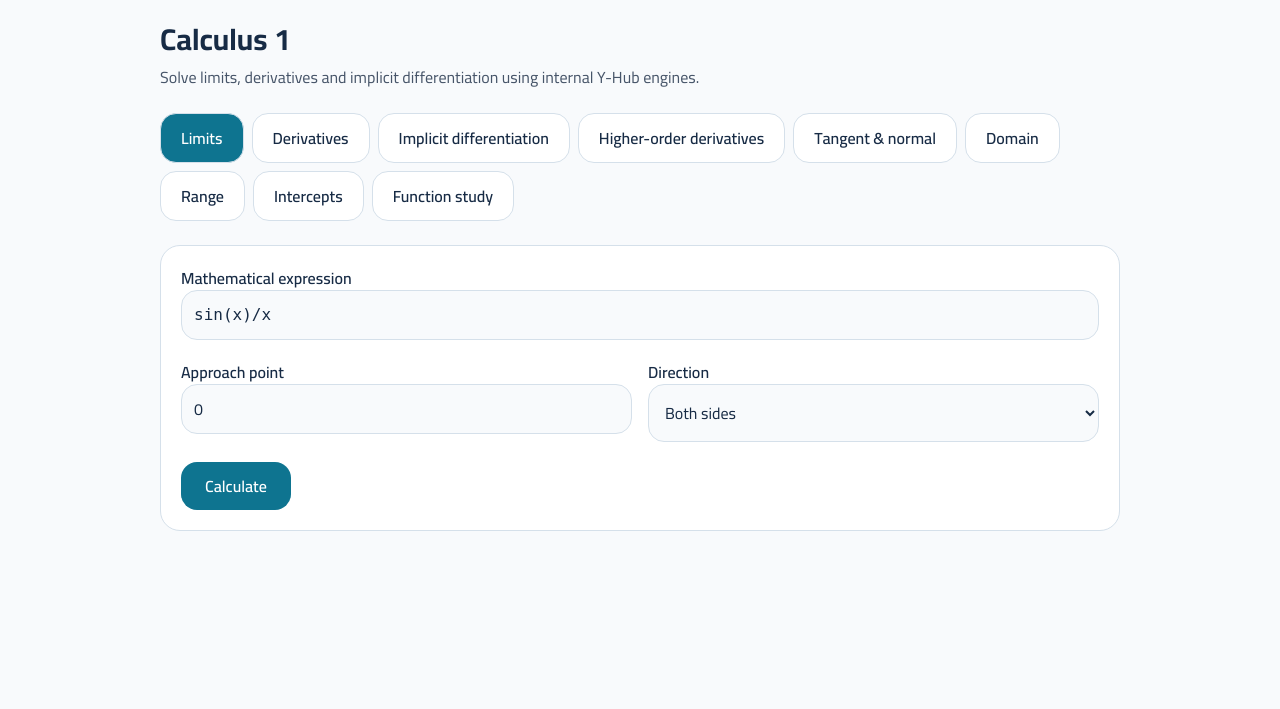
Test: Calculus 1 intercepts UI › shows exact irrational quadratic roots
What coordinates should you click on to do the following:
click the tab "Intercepts"
I would click on:
 (308, 196)
Its box is [253, 171, 364, 221].
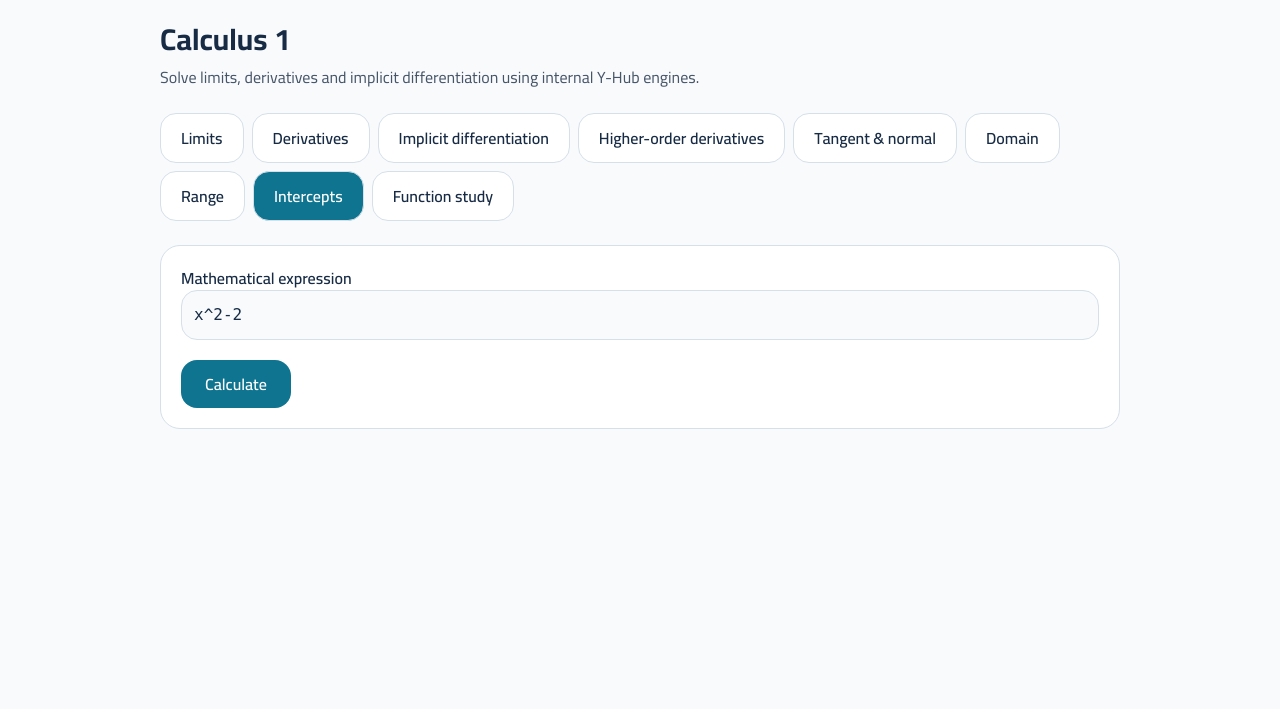
Expected: the field labelled "Mathematical expression" holds "x^2-2", [181, 290, 1099, 340]
What coordinates should you click on to do the following:
click the button "Calculate"
I would click on:
 (236, 384)
Its box is [181, 360, 291, 408].
(page scrolled)
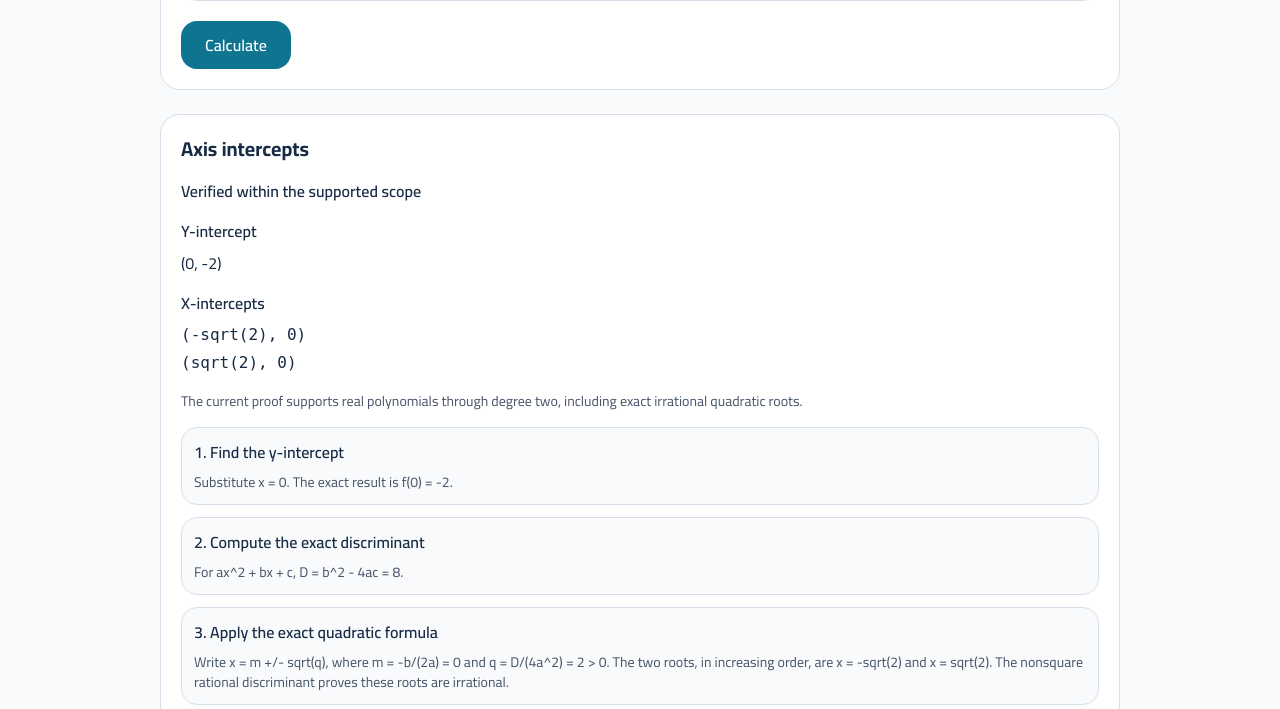
Expected: the text with test id "y-intercept" reads "(0, -2)", [181, 248, 222, 278]
Expected: the list with test id "x-intercepts" shows "(-sqrt(2), 0)", [181, 325, 306, 372]
Expected: the list with test id "x-intercepts" shows "(sqrt(2), 0)", [181, 325, 306, 372]
